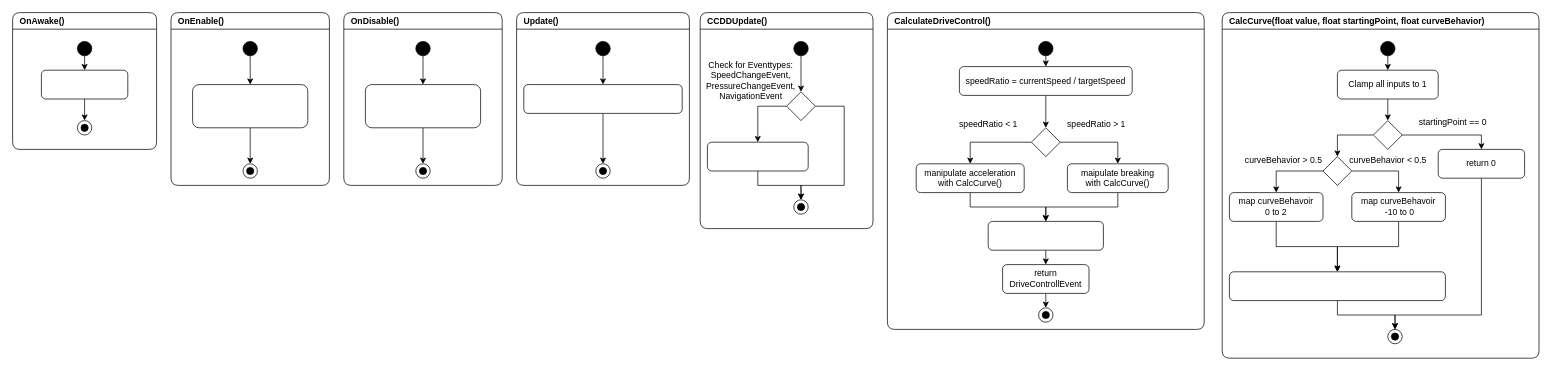
Some shapes in this 1552 by 371 pixel diagram are drawn without their labels. The shapes that lost their labels are listed below. From the top down, each one's centre as x and y in pixels, then its label:
the point at 84,84: Get Configuration
the point at 602,98: NotifyObserver(CalculateDriveControl())
the point at 250,106: Attach Brain to: Speedometer, Raycaster, Navigator
the point at 423,106: Detach Brain to: Speedometer, Raycaster, Navigator
the point at 757,156: Cache Eventvariable to Instancevariable
the point at 1045,235: manipulate steering
the point at 1337,286: return Clamp (startingPoint (e value ∗curveBehavior −value ) )
